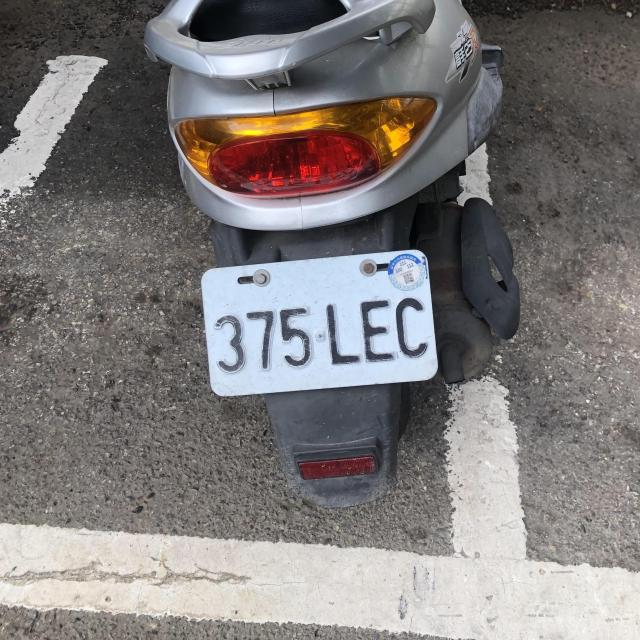W: (198, 247, 440, 396)
